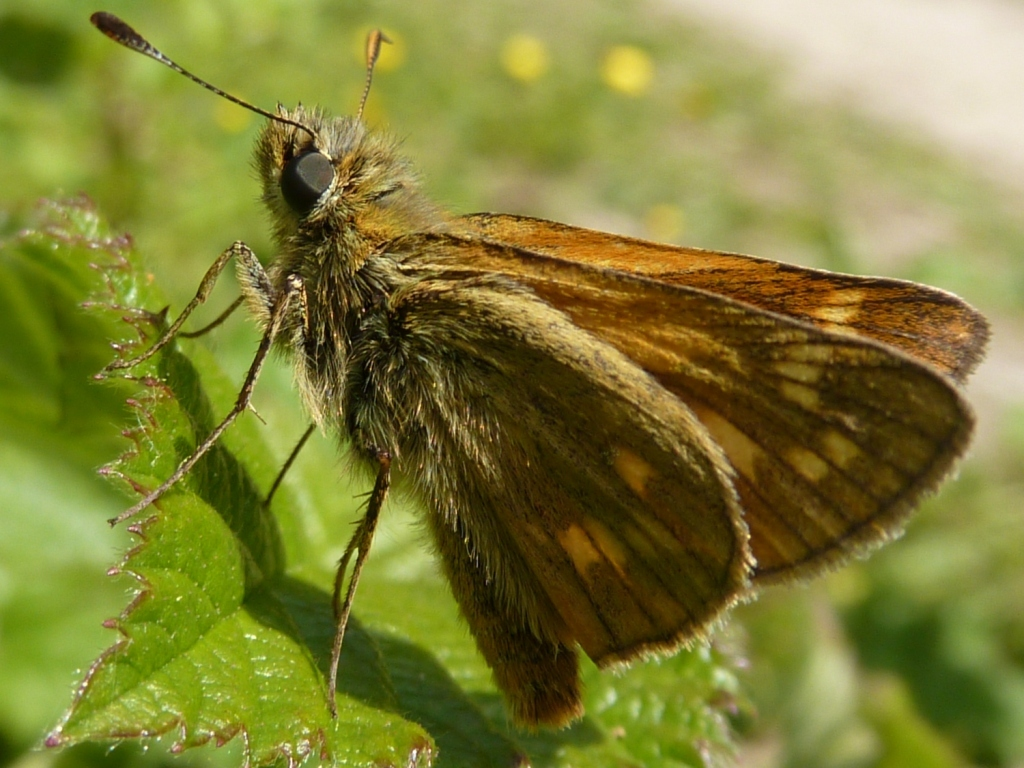Butterfly: (131, 6, 1000, 736)
